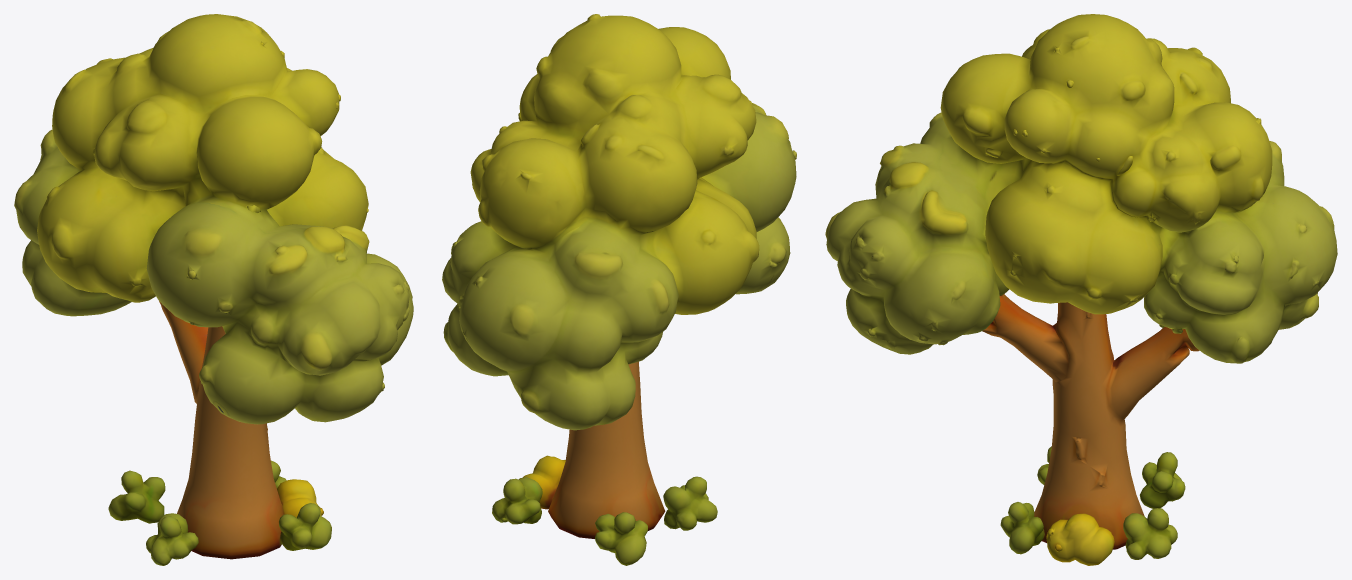
File: tree.glb
3 views of the same model, side by side, from view 1: azimuth 30°, elevation 25°; view 2: azimuth 150°, elevation 25°; view 3: azimuth 270°, elevation 25° (orthographic). The views are drawn at different scales.
Visible parts, largest first — view 1: tripo_node_75c0cea1-dfd3-4869-a686-3902f0f866c3; view 2: tripo_node_75c0cea1-dfd3-4869-a686-3902f0f866c3; view 3: tripo_node_75c0cea1-dfd3-4869-a686-3902f0f866c3.
Part boxes in pixels (<box>): tripo_node_75c0cea1-dfd3-4869-a686-3902f0f866c3: <box>14,14,413,565</box>; tripo_node_75c0cea1-dfd3-4869-a686-3902f0f866c3: <box>442,14,796,565</box>; tripo_node_75c0cea1-dfd3-4869-a686-3902f0f866c3: <box>825,14,1337,565</box>.
Bounding box in the file's own units: 0.5723 × 0.998 × 0.9199.
Materials: 1 (1 with a texture image).
